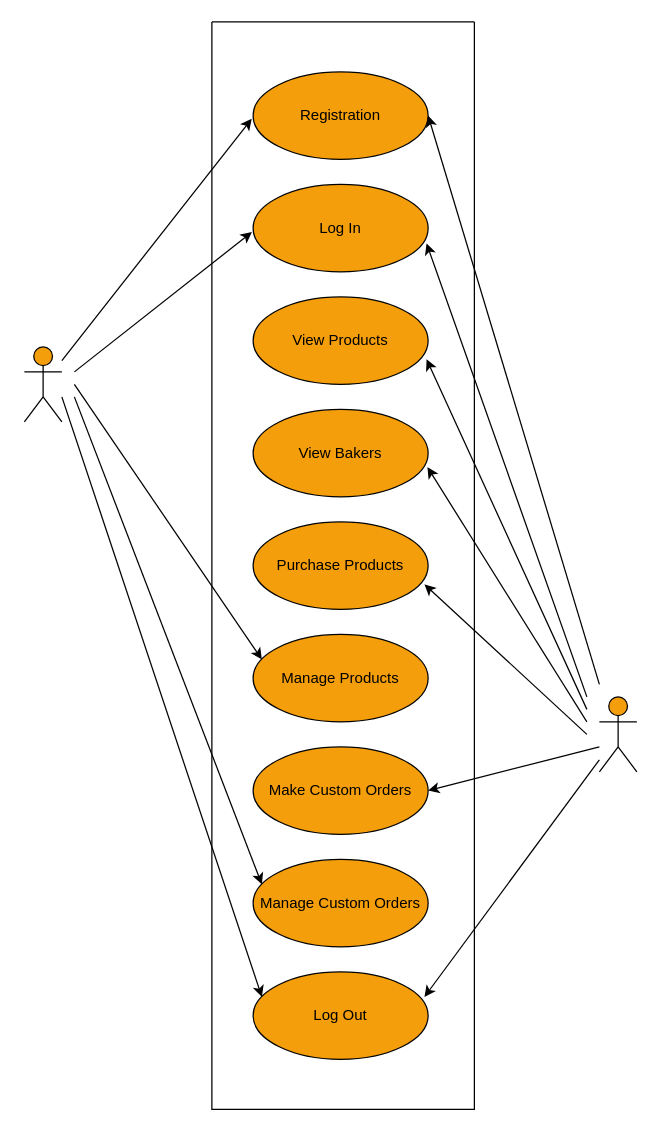
Some shapes in this 659 by 1131 pixel diagram are drawn without their labels. The shapes that lost their labels are listed below. From the top down, each one's box as (x1, y1, x2, y2) in pixels, then its label:
(23, 346, 62, 422): Admin
(598, 696, 637, 772): User
